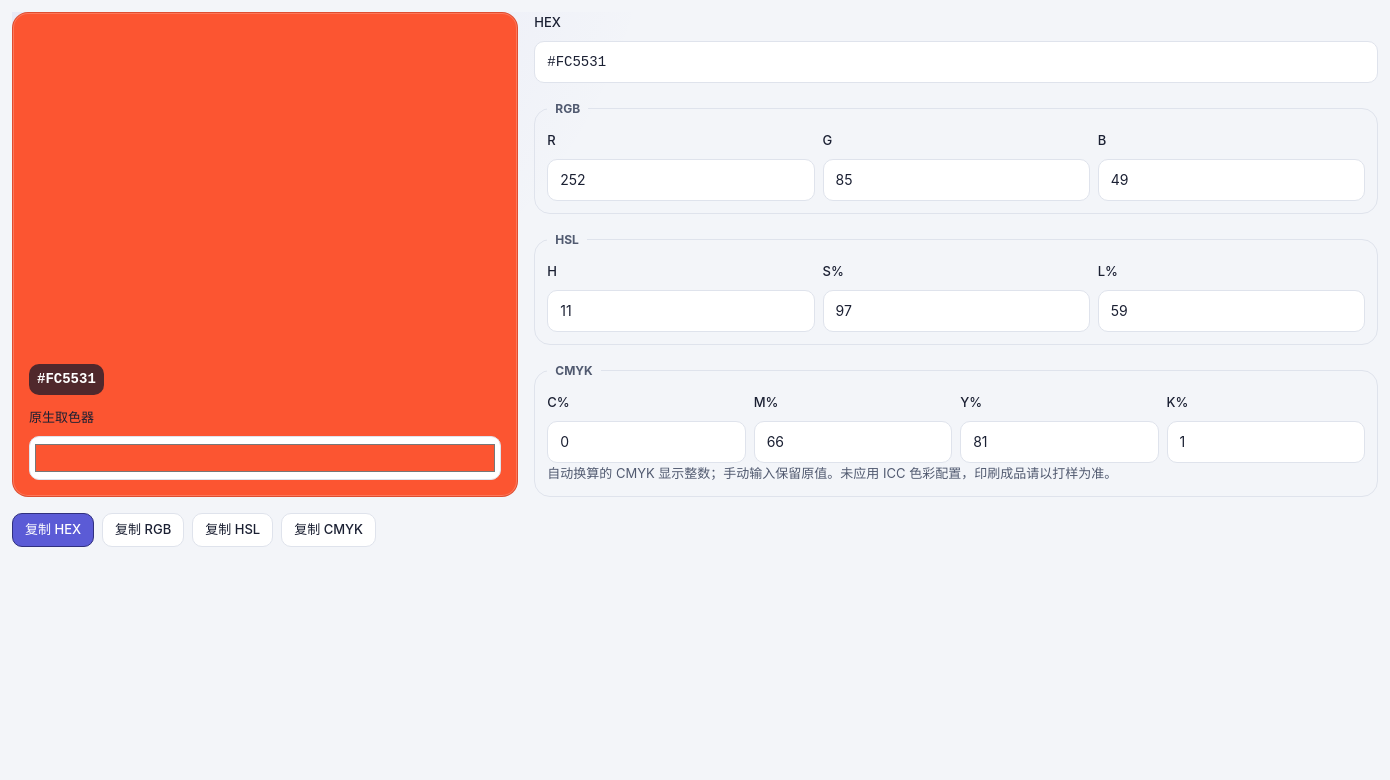
Test: ColorConverter CMYK interactions › keeps invalid input visible and prevents copying it
Replace the text in the number field labelled "M%" with "101" at (853, 442), box [754,421,952,463]
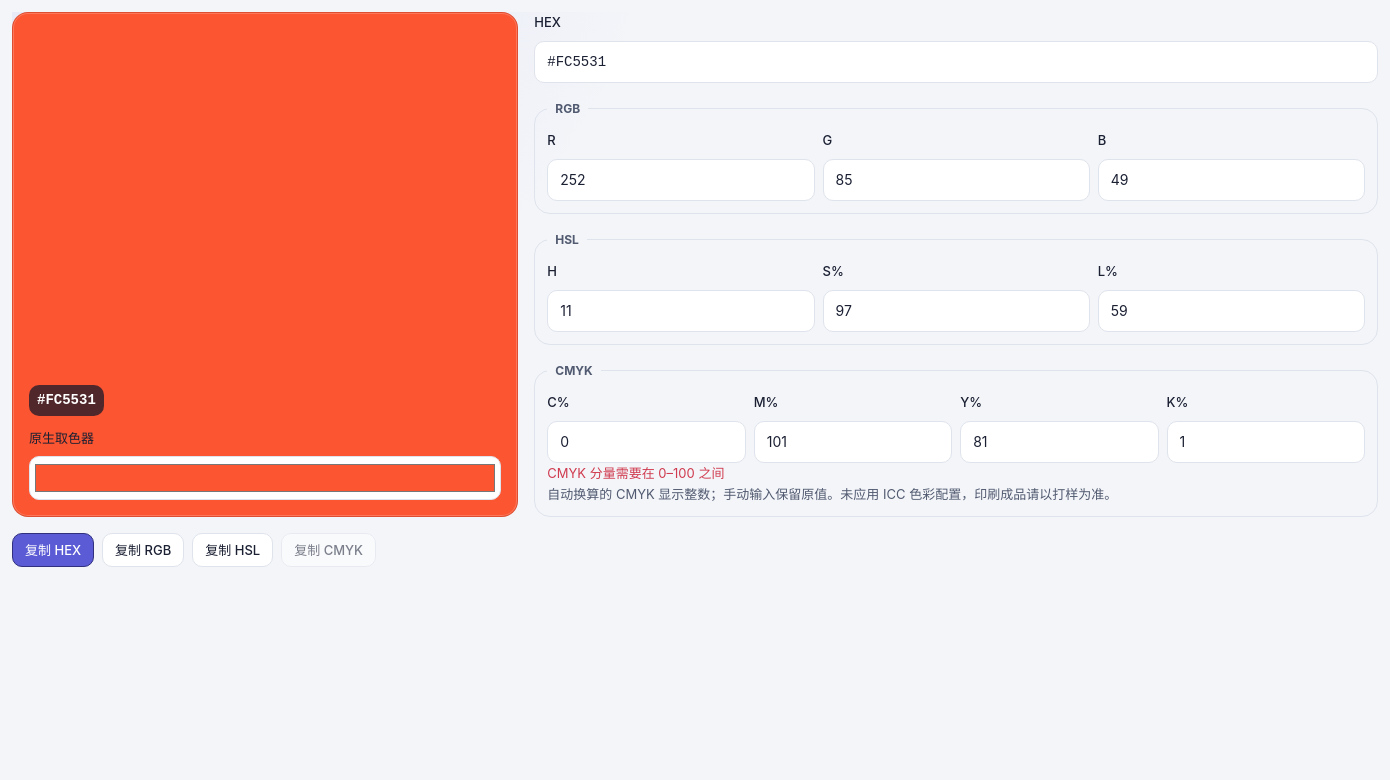
Check: the message "CMYK 分量需要在 0–100 之间" is shown, box [547,465,724,481]
Check: the button "复制 CMYK" is disabled, box [281,533,376,567]
